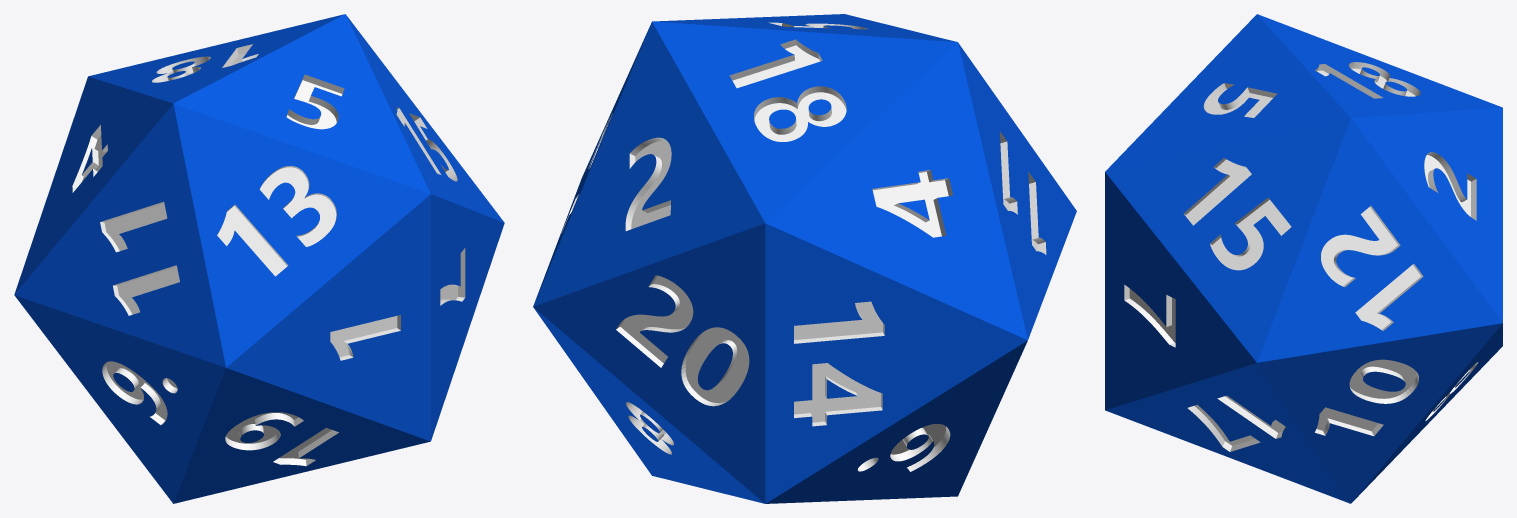
3 renders of one model, left to right at view 1: azimuth 30°, elevation 25°; view 2: azimuth 150°, elevation 25°; view 3: azimuth 270°, elevation 25°, orthographic. The views are drawn at different scales.
Parts seen in each view (by area): view 1: d20; view 2: d20; view 3: d20.
Boxes of the visible parts, x1=… form: d20: x1=14, y1=14, x2=504, y2=503; d20: x1=533, y1=14, x2=1076, y2=503; d20: x1=1105, y1=14, x2=1502, y2=503.
Size of the model in its own units: 3.46 by 3 by 2.8.
Materials: 1 (1 with a texture image).
